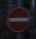No entry: (5, 5, 31, 34)
